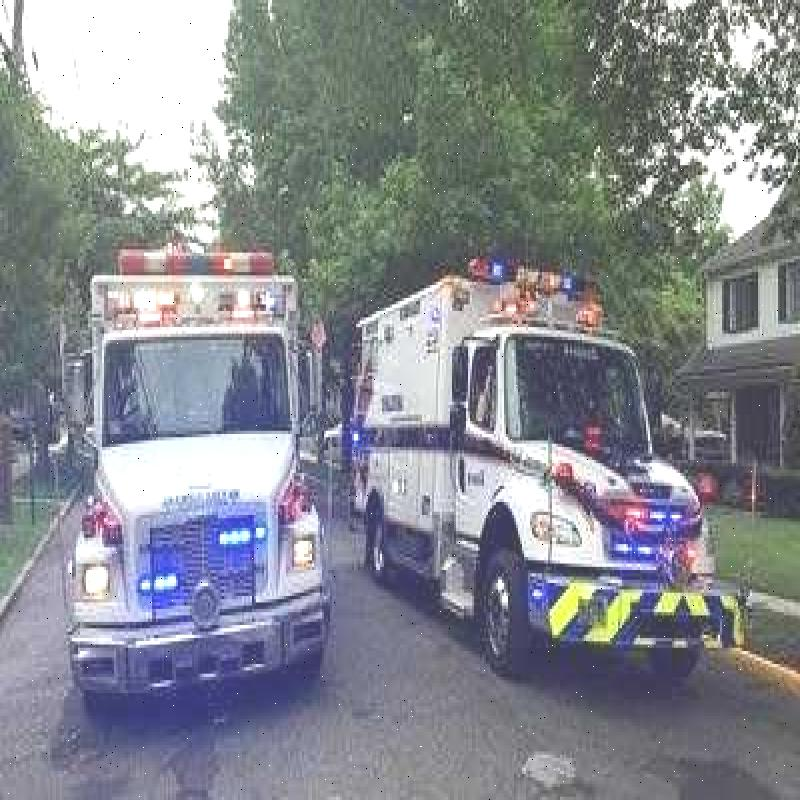AmbulanceSiren: (114, 213, 284, 289), (467, 257, 596, 299)
